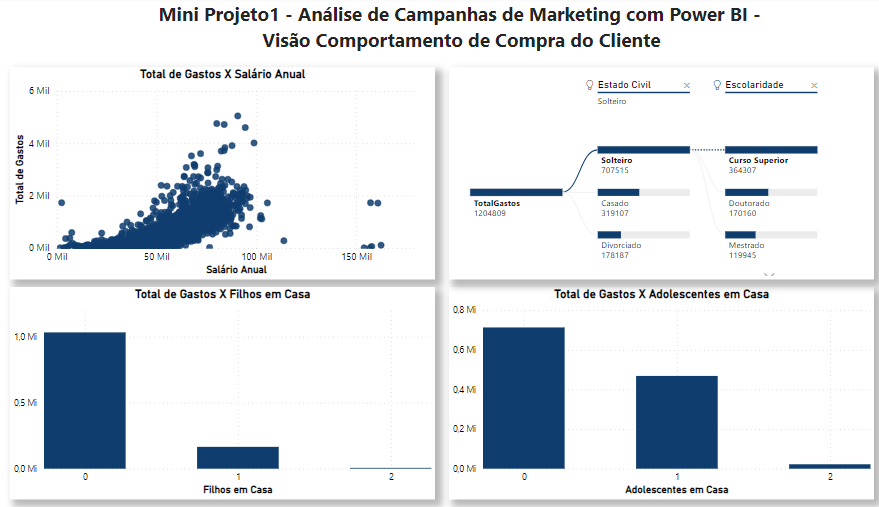

What the dashboard file says about the page in this screenshot:
{"tool":"powerbi","page":{"name":"Visão Comportamento","canvas":[1280,720],"ordinal":1},"visuals":[{"type":"scatterChart","title":"Total de Gastos X Salário Anual","fields":{"X":["DadosMarketing.Salario Anual"],"Y":["DadosMarketing.TotalGastos"]},"box":[20.2,99.4,600.5,299.5],"z":0},{"type":"clusteredColumnChart","title":"Total de Gastos X Filhos em Casa","fields":{"Y":["DadosMarketing.TotalGastos"],"Category":["DadosMarketing.Filhos em Casa"]},"box":[20.2,409,600.5,299.5],"z":1000},{"type":"clusteredColumnChart","title":"Total de Gastos X Adolescentes em Casa","fields":{"Y":["DadosMarketing.TotalGastos"],"Category":["DadosMarketing.Adolescentes em Casa"]},"box":[639.4,409,600.5,299.5],"z":2000},{"type":"decompositionTreeVisual","fields":{"Analyze":["DadosMarketing.TotalGastos"],"ExplainBy":["DadosMarketing.Estado Civil","DadosMarketing.Escolaridade"]},"box":[639.4,99.4,600.5,299.5],"z":3000},{"type":"textbox","box":[224.3,0,865.1,84.3],"z":4000}]}

Visuals, with their boxes in screenshot pixels (x1, y1, x2, y2), scaled from the page's 1280x720 canvas onto the 879x507 screenshot:
"Total de Gastos X Salário Anual" scatterChart: 14 70 426 281
"Total de Gastos X Filhos em Casa" clusteredColumnChart: 14 288 426 499
"Total de Gastos X Adolescentes em Casa" clusteredColumnChart: 439 288 851 499
decompositionTreeVisual - DadosMarketing.TotalGastos x DadosMarketing.Estado Civil: 439 70 851 281
textbox: 154 0 748 59
